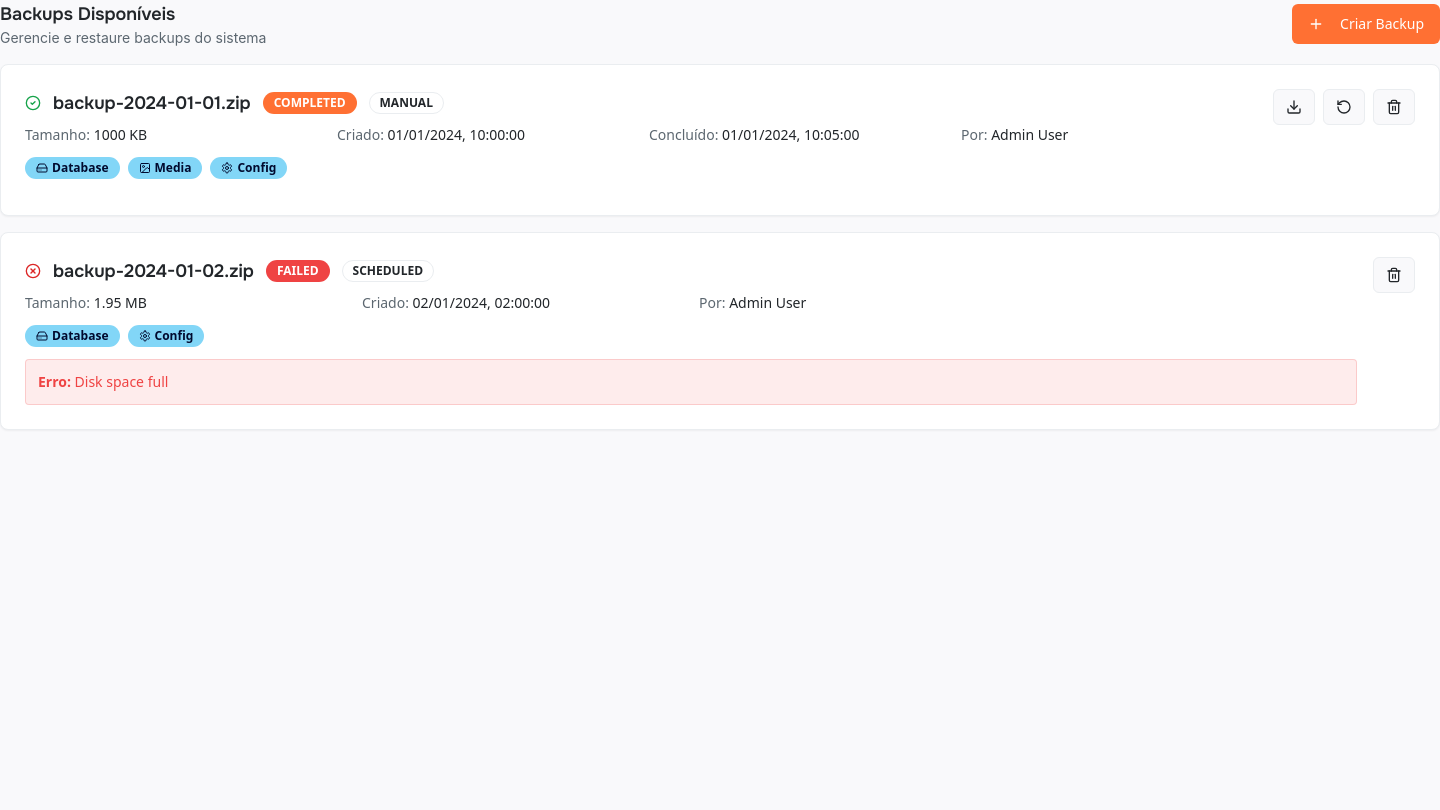
Test: BackupsList › Delete Backup › should cancel delete dialog
The width and height of the screenshot is (1440, 810).
Step 1. Click the 4th button → (1394, 107), box [1373,89,1415,125]
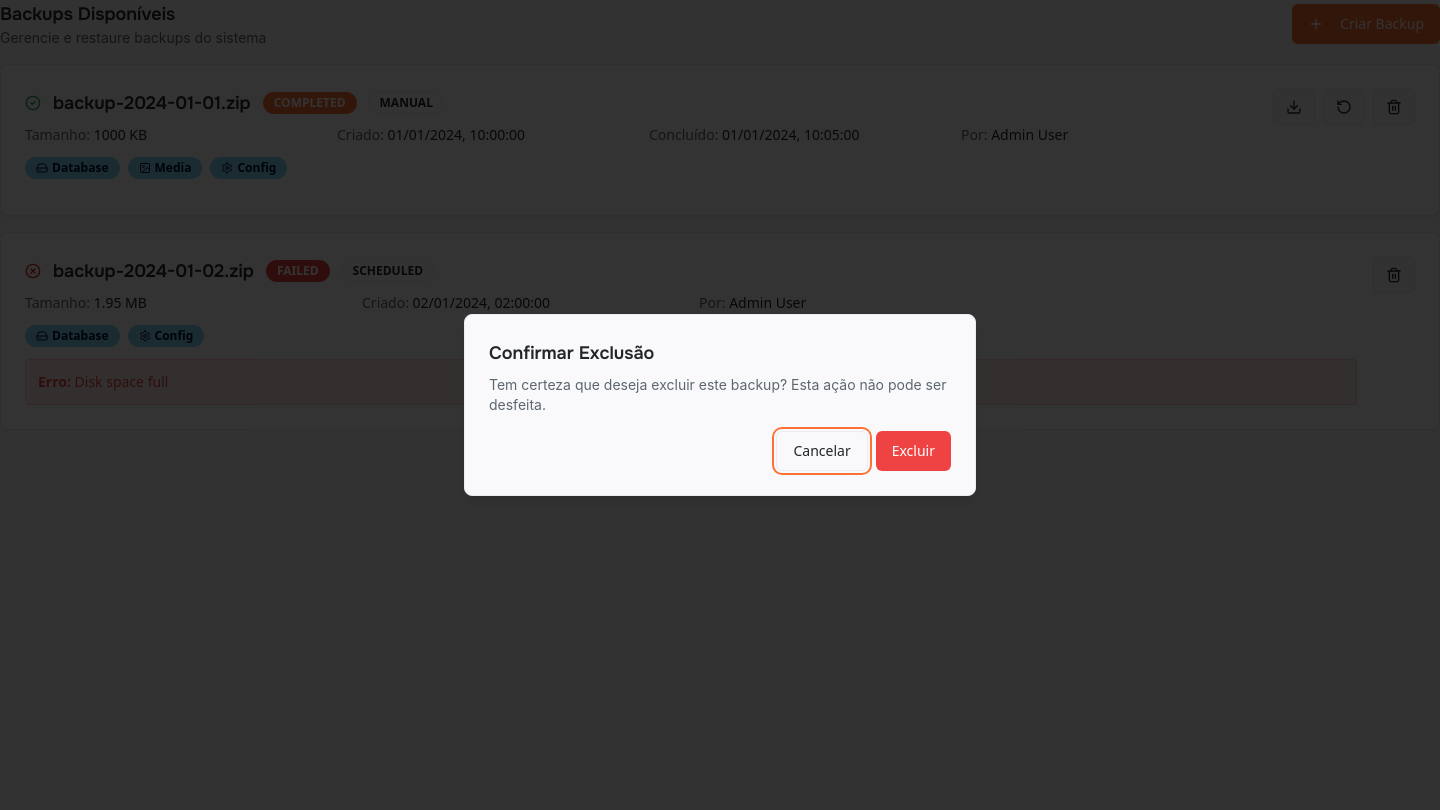
Step 2. Click the button "Cancelar" → (822, 451), box [776,431,868,471]
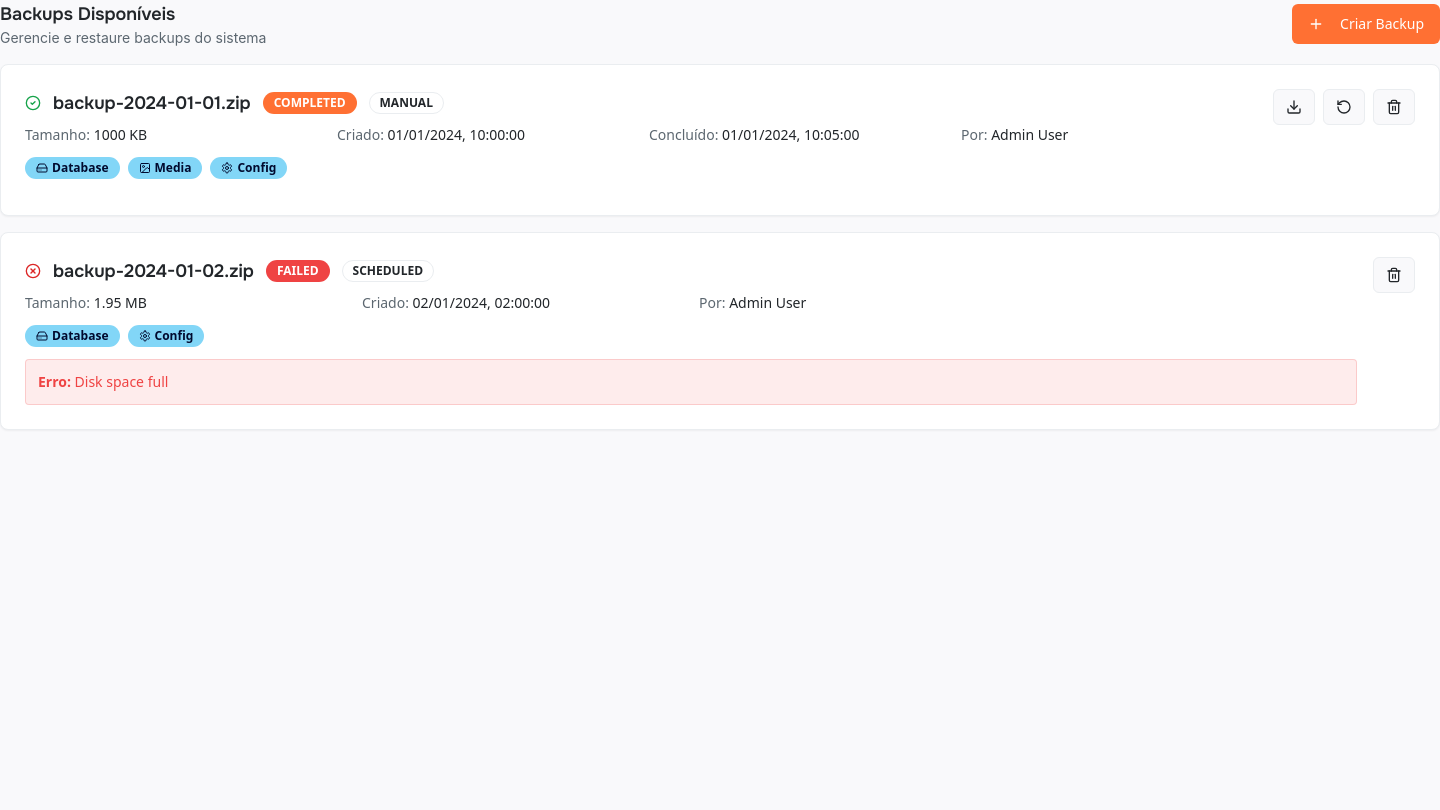
Result: the heading "Confirmar Exclusão" is gone
